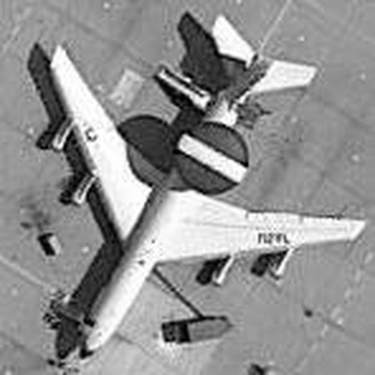airplane: (15, 10, 369, 362)
